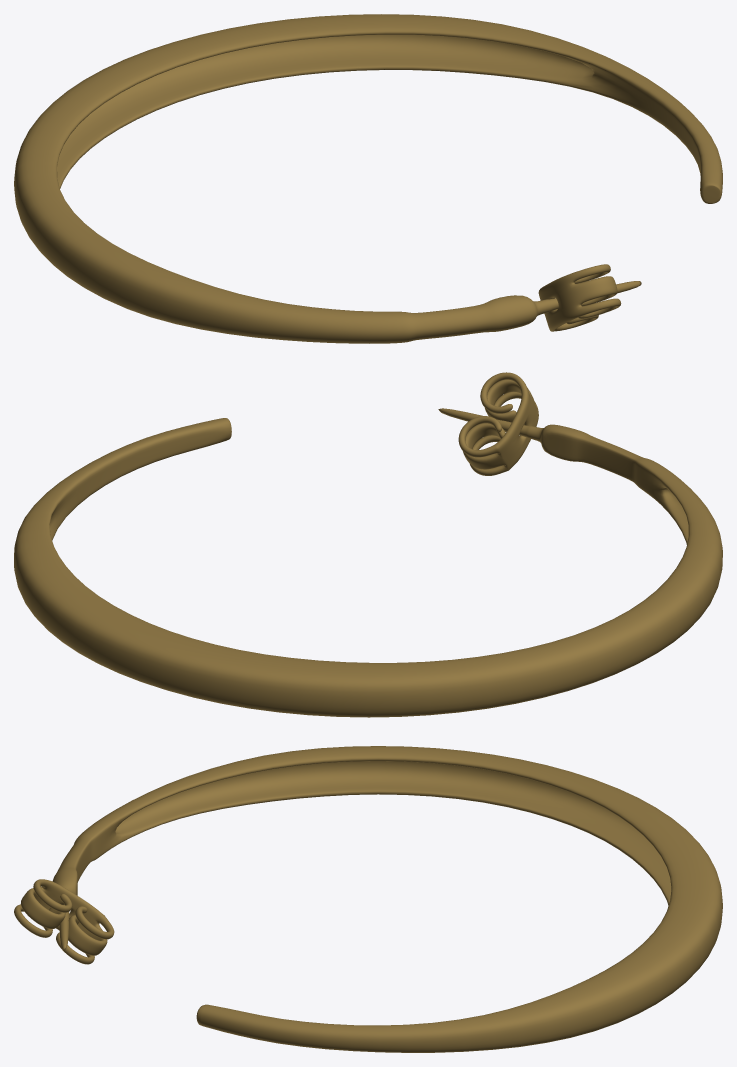
The model's file is 11758__earring_v1_l3.obj.
3 views of the same model, one above another, from view 1: azimuth 30°, elevation 25°; view 2: azimuth 150°, elevation 25°; view 3: azimuth 270°, elevation 25° (orthographic). The views are drawn at different scales.
Parts seen in each view (by area): view 1: earring_2, earring_mount_r; view 2: earring_2, earring_mount_r; view 3: earring_2, earring_mount_r.
Boxes of the visible parts, <box> form: earring_2: <box>14,14,722,343</box>; earring_mount_r: <box>538,264,621,331</box>; earring_2: <box>14,408,722,717</box>; earring_mount_r: <box>458,372,538,475</box>; earring_2: <box>52,746,722,1052</box>; earring_mount_r: <box>14,879,114,964</box>.
Size of the model in its own units: 0.7311 by 0.0941 by 0.7694.
